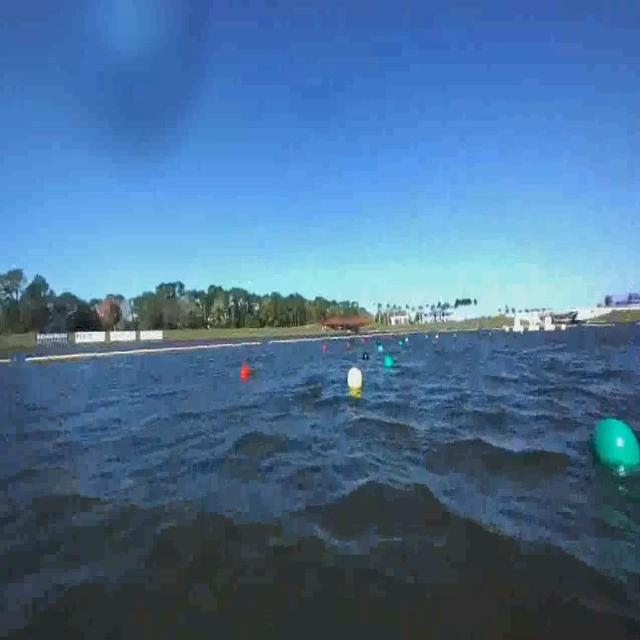black-buoy: (362, 350, 369, 360)
green-buoy: (589, 416, 639, 481), (385, 354, 393, 368), (379, 344, 384, 353)
red-buoy: (242, 364, 251, 381), (322, 343, 327, 353)
yellow-buoy: (348, 367, 363, 393)
